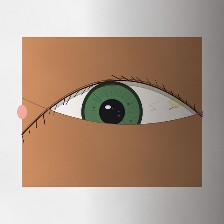pinguecula_lesion: (160, 89, 193, 116)
